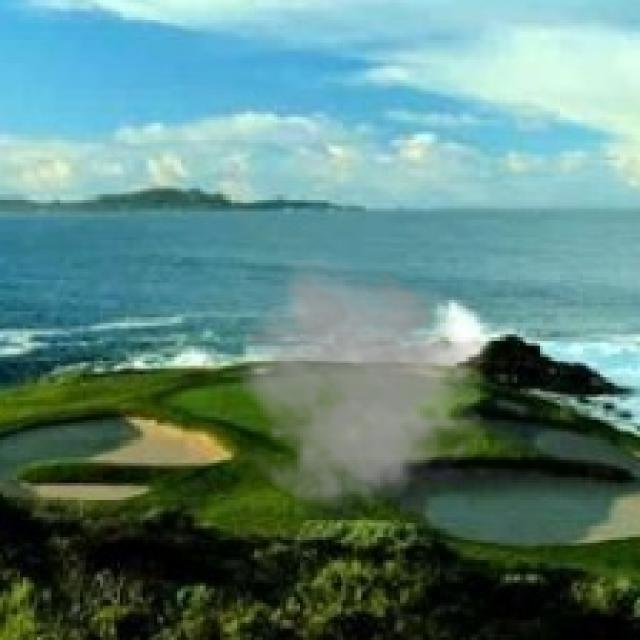Smoke: (228, 260, 494, 526)
